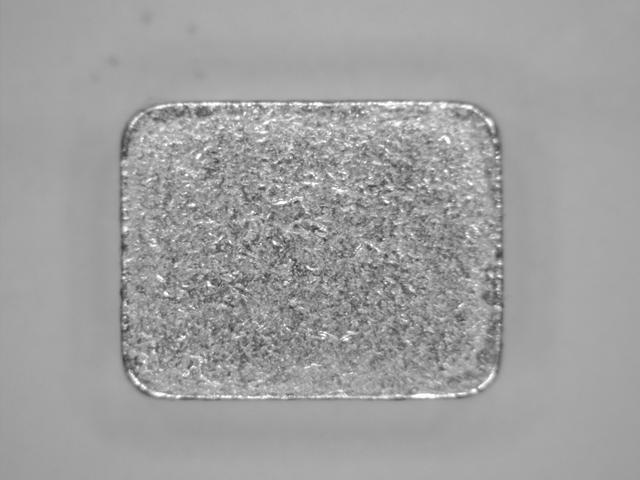ok: (113, 97, 514, 407)
